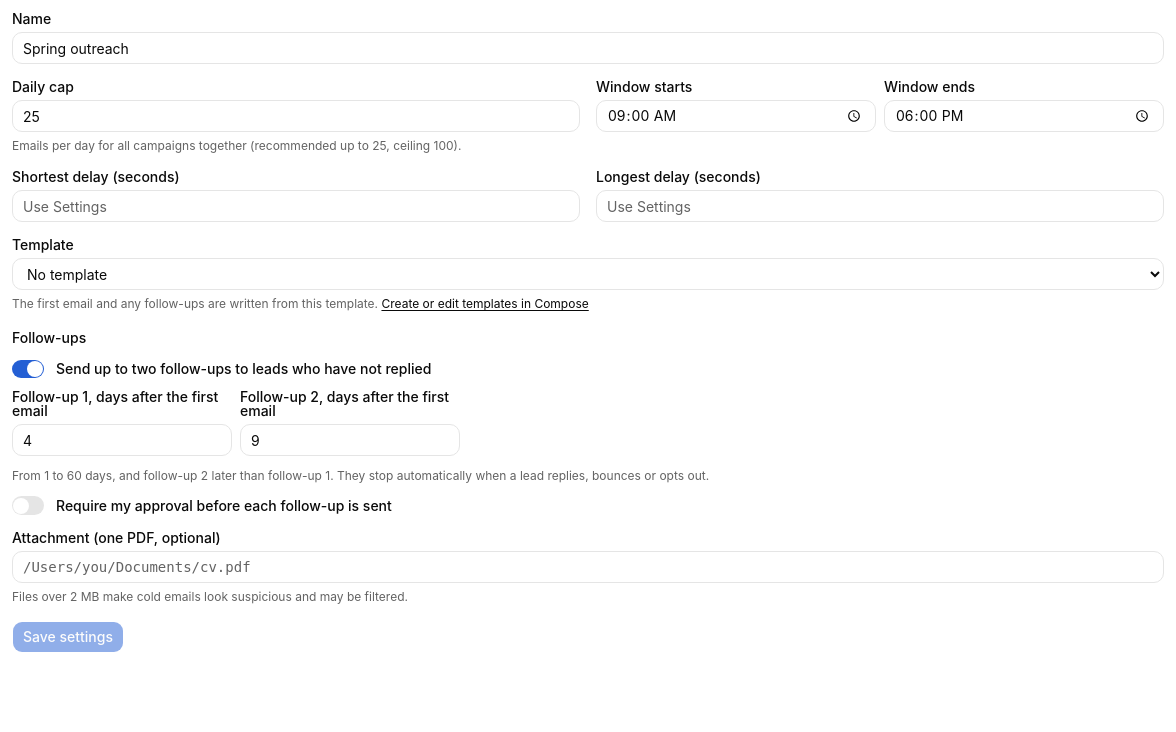
campaign settings form: follow-ups and template › shows an inline error and blocks saving when the days are not increasing
The width and height of the screenshot is (1176, 732).
Replace the text in the field labelled "Follow-up 2, days after the first email" with "4" at (350, 440), box x1=240 y1=424 x2=460 y2=456
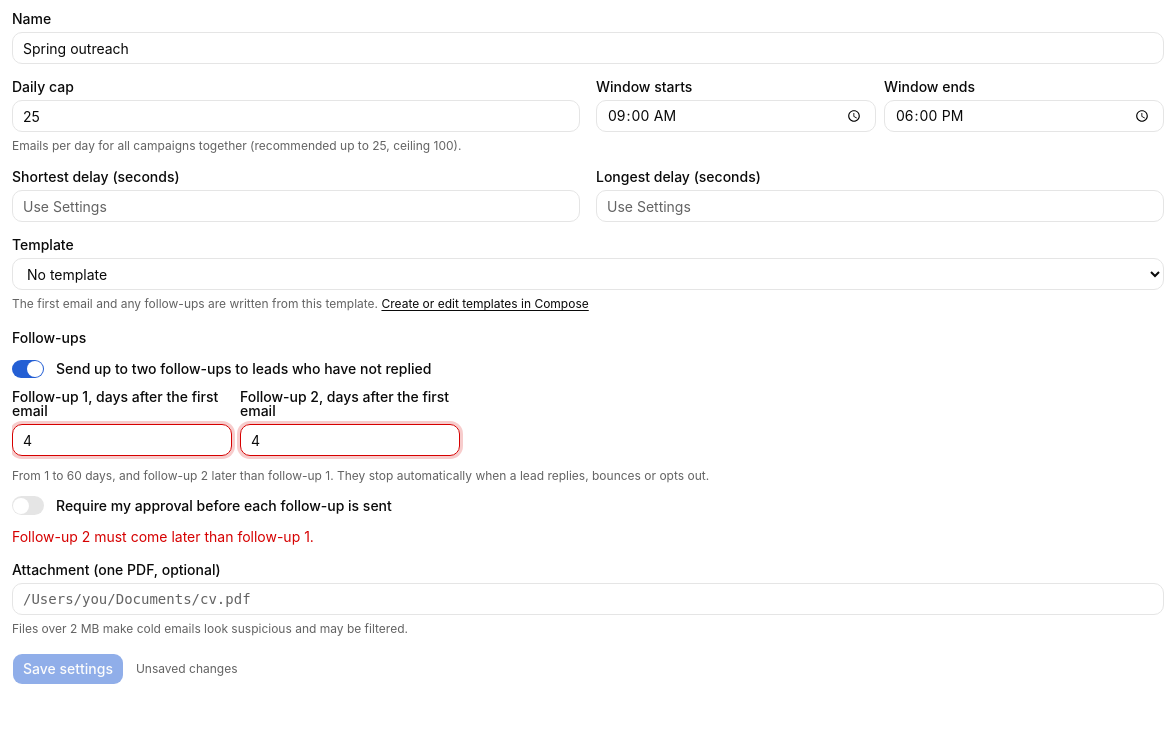
Expected: the button "Save settings" is disabled, x1=12 y1=653 x2=124 y2=685
Expected: the message with test id "followup-error" shows "later than follow-up 1", x1=12 y1=528 x2=314 y2=545
